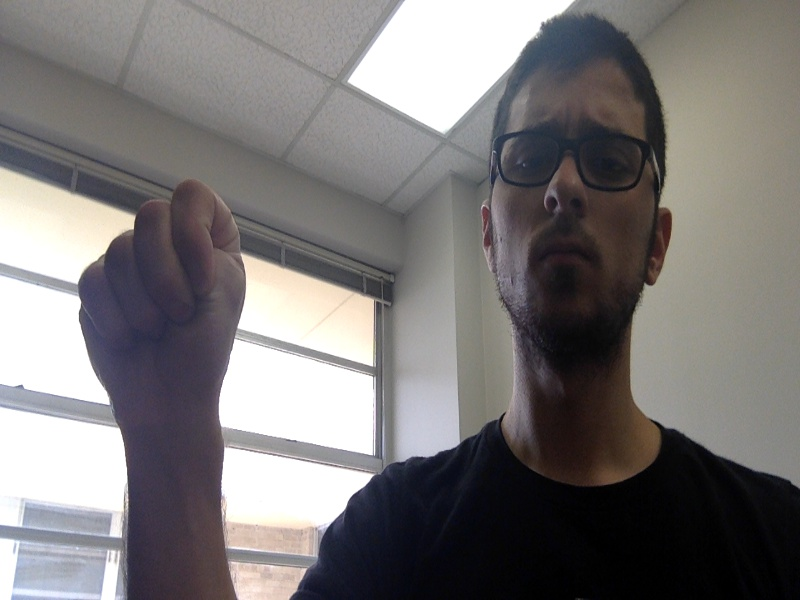0-hand: (78, 181, 242, 415)
